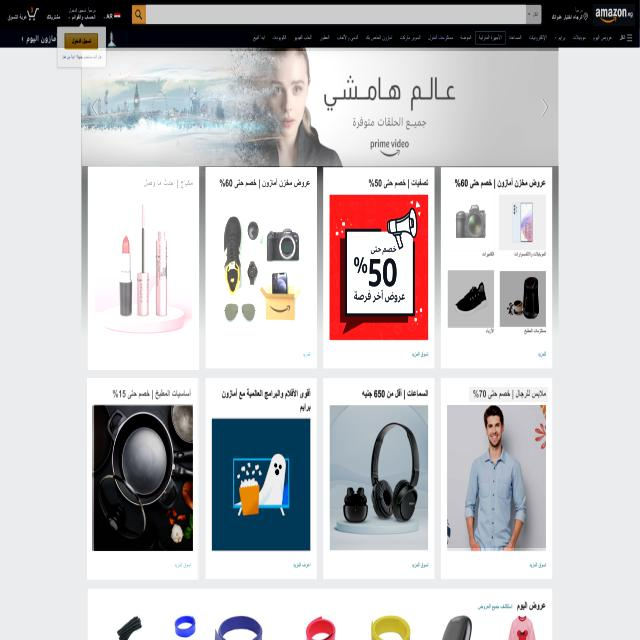CheckBox: (64, 33, 98, 49), (131, 4, 146, 24), (177, 348, 194, 360)
CheckedTextView: (132, 3, 542, 26)
Spinner: (88, 378, 200, 580), (206, 166, 317, 368)
Switch: (82, 51, 559, 166), (88, 166, 199, 370)
alert: (526, 4, 542, 24)
bag: (0, 0, 639, 48)
breadcrumbs: (216, 172, 310, 189), (469, 387, 548, 402), (141, 172, 195, 192), (367, 176, 429, 191)
carousel: (134, 9, 144, 21)
copy: (212, 193, 312, 340), (94, 194, 193, 342), (329, 195, 428, 342), (94, 404, 193, 551), (447, 406, 546, 550), (330, 405, 428, 550), (212, 417, 311, 551), (446, 194, 494, 250), (448, 270, 494, 328), (499, 195, 546, 250), (500, 271, 546, 327)
date picker: (593, 4, 635, 26)
decoration: (250, 30, 636, 47)
label: (57, 23, 107, 67)
